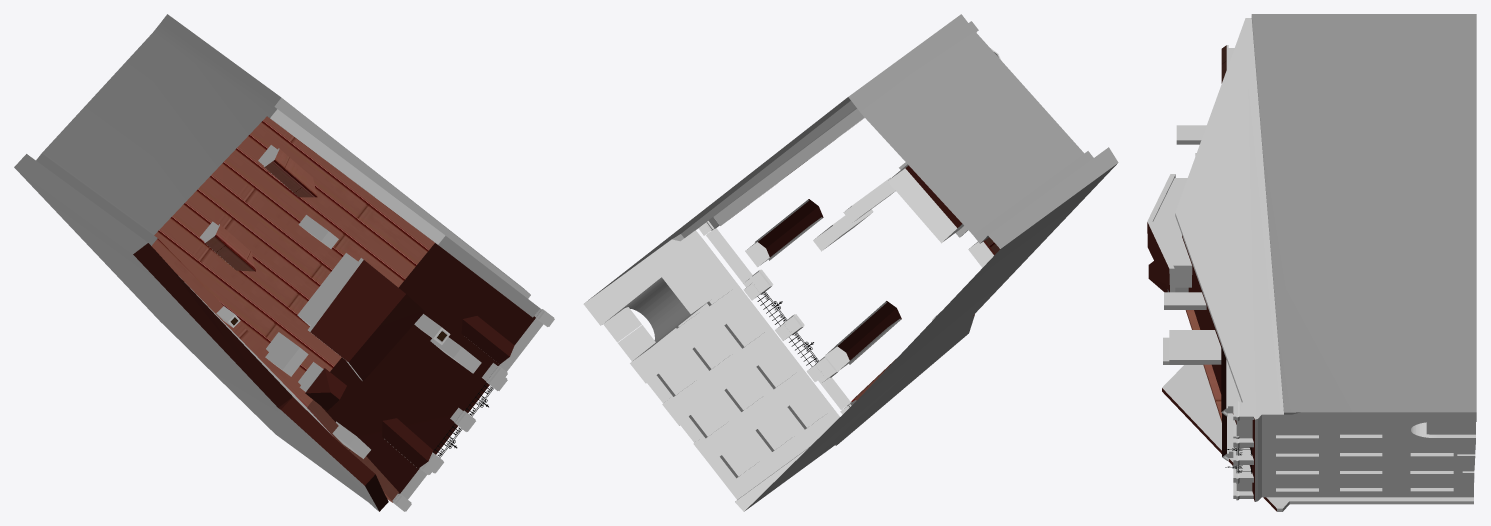
File: Lai-7.obj
3 views of the same model, side by side, from view 1: azimuth 30°, elevation 25°; view 2: azimuth 150°, elevation 25°; view 3: azimuth 270°, elevation 25° (orthographic).
Visible parts, largest first — view 1: Lai_7; view 2: Lai_7; view 3: Lai_7.
Part boxes in pixels (bbox=[...]): Lai_7: bbox=[14, 14, 554, 511]; Lai_7: bbox=[583, 14, 1118, 511]; Lai_7: bbox=[1147, 14, 1476, 511].
Size of the model in its own units: 27.62 by 28.32 by 19.02.
